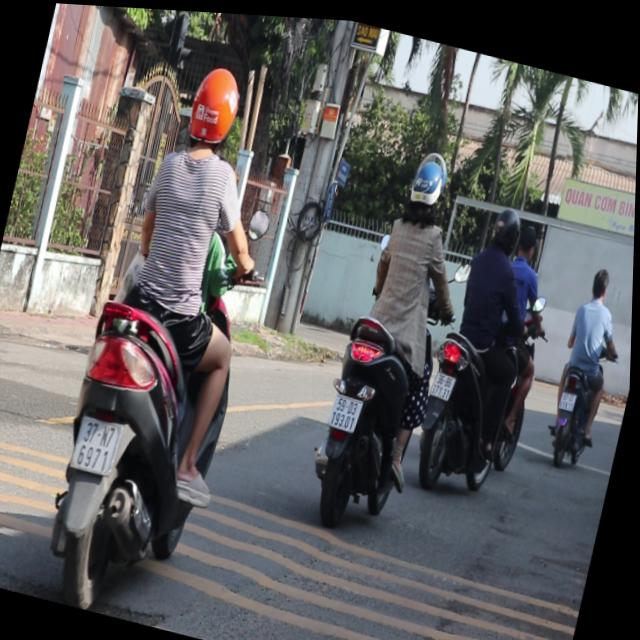helmet: (179, 56, 245, 157), (401, 142, 453, 224), (487, 195, 526, 250)
licenseplate: (25, 35, 309, 634), (300, 129, 481, 537), (407, 186, 570, 506), (540, 251, 633, 465)
motorcyclist: (516, 215, 542, 257), (589, 257, 614, 295)
nohelmet: (72, 413, 124, 476), (328, 388, 365, 428), (431, 364, 459, 395), (562, 383, 579, 404)
